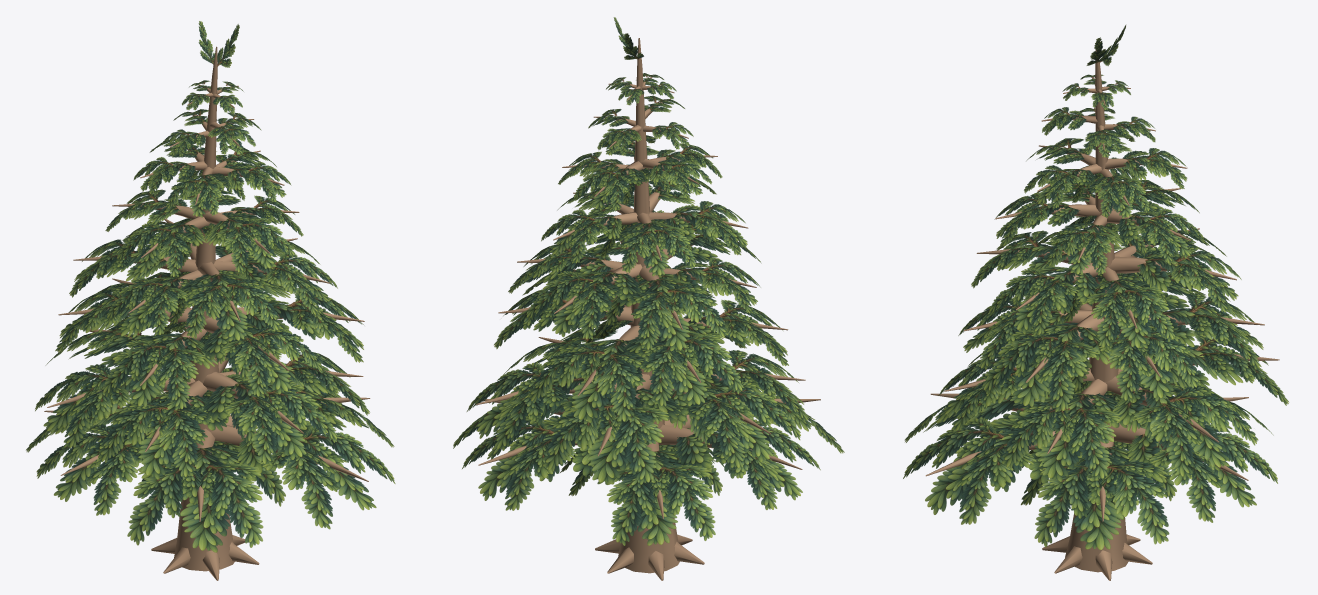
Rendered from fir-zero-first.glb.
The picture shows the model from 3 angles, left to right: view 1: azimuth 30°, elevation 25°; view 2: azimuth 150°, elevation 25°; view 3: azimuth 270°, elevation 25°; orthographic projection. The views are drawn at different scales.
Parts seen in each view (by area): view 1: foliage_cards, trunk_and_branches; view 2: foliage_cards, trunk_and_branches; view 3: foliage_cards, trunk_and_branches.
Boxes of the visible parts, x1,y1,x2,y2 form: foliage_cards: [26, 21, 395, 552]; trunk_and_branches: [44, 46, 370, 580]; foliage_cards: [453, 17, 844, 545]; trunk_and_branches: [476, 38, 820, 580]; foliage_cards: [903, 25, 1288, 549]; trunk_and_branches: [925, 42, 1279, 580].
Size of the model in its own units: 4.46 by 6.49 by 4.48.
Materials: 2 (1 with a texture image).
